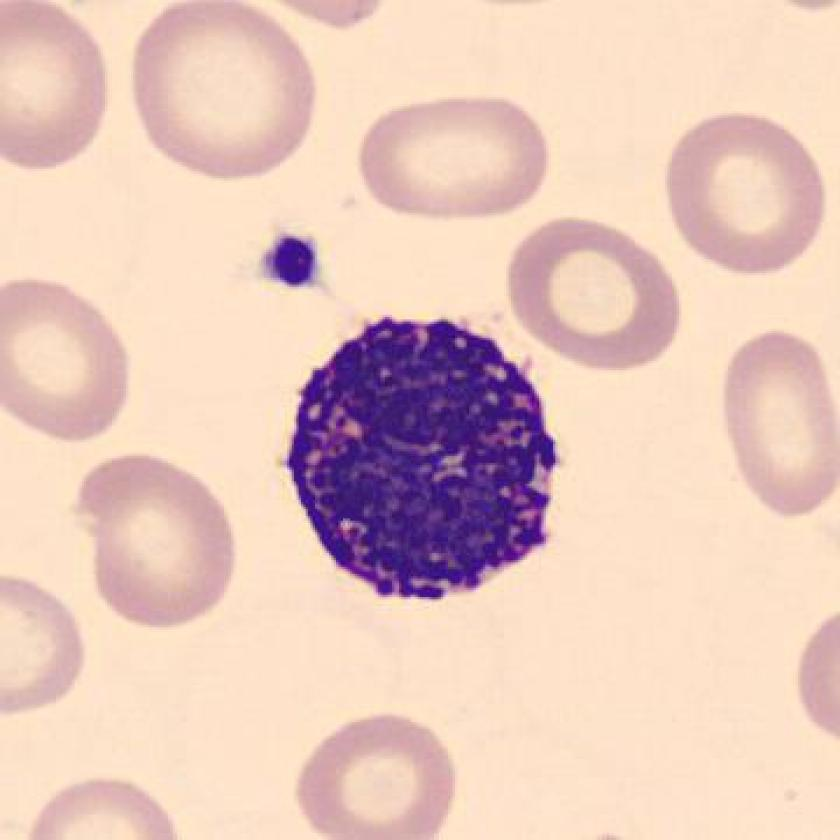basophil: (272, 297, 580, 612)
